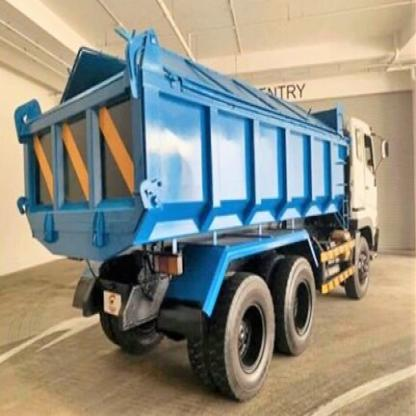truck: (15, 22, 389, 403)
